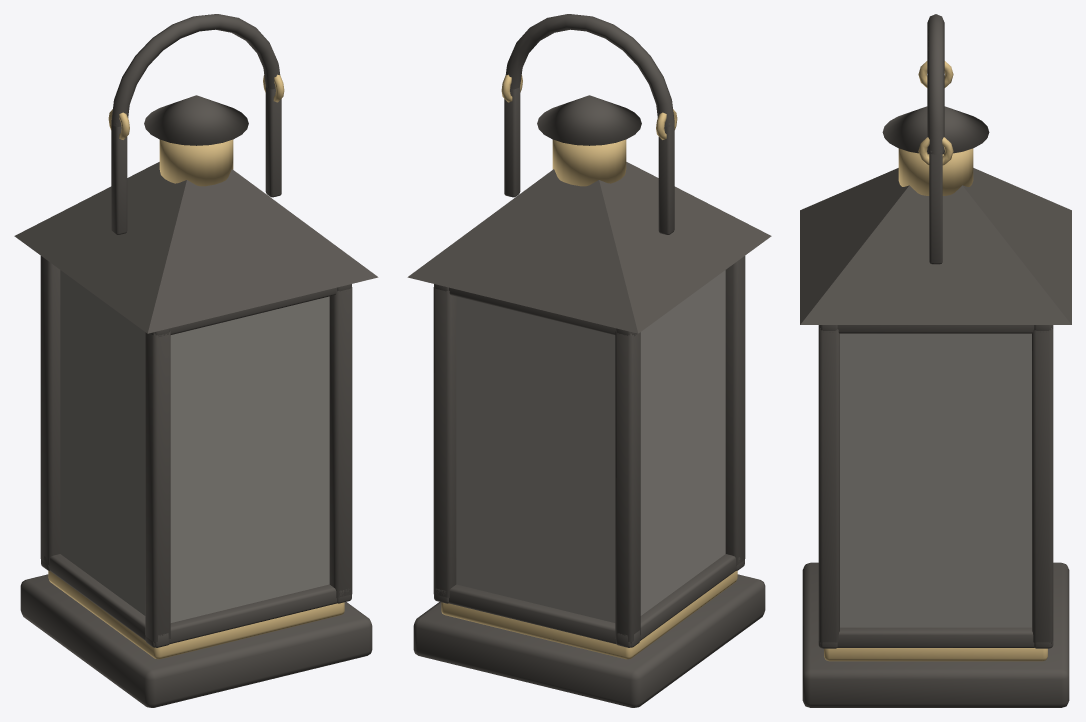
The model's file is Lantern.glb.
The picture shows the model from 3 angles, left to right: view 1: azimuth 30°, elevation 25°; view 2: azimuth 150°, elevation 25°; view 3: azimuth 270°, elevation 25°; orthographic projection.
Parts seen in each view (by area): view 1: Lantern; view 2: Lantern; view 3: Lantern.
Part boxes in pixels (x1,y1,x2,y2): Lantern: [14, 14, 378, 707]; Lantern: [407, 14, 771, 707]; Lantern: [800, 14, 1071, 707].
Size of the model in its own units: 0.5091 by 1.31 by 0.5091.
Materials: 1 (1 with a texture image).
